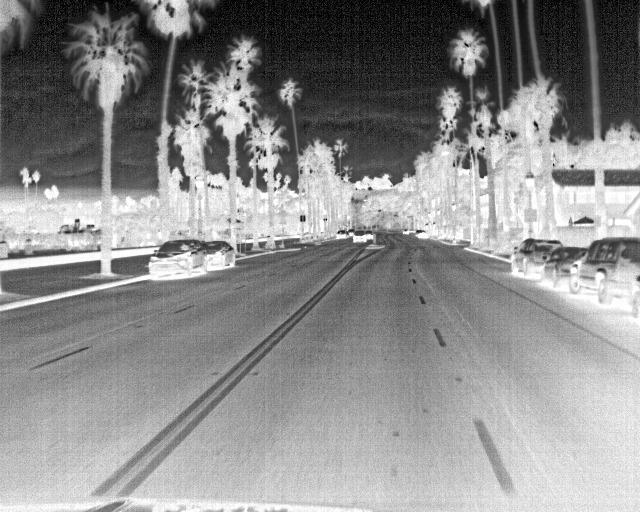car: (570, 241, 636, 307), (144, 238, 210, 281), (542, 242, 592, 290), (511, 236, 562, 278), (203, 239, 235, 269), (351, 229, 371, 244), (334, 228, 349, 240), (361, 229, 376, 241), (414, 228, 427, 240), (400, 227, 409, 236)
